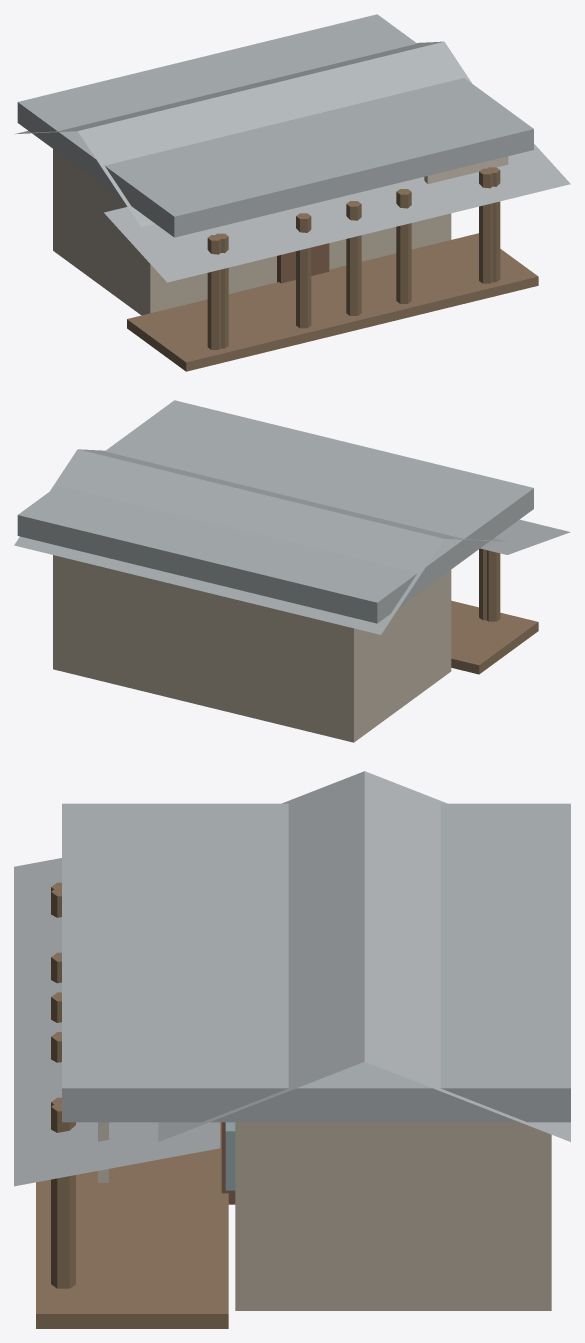
The model's file is cellardoor.glb.
3 renders of one model, top to bottom at view 1: azimuth 30°, elevation 25°; view 2: azimuth 150°, elevation 25°; view 3: azimuth 270°, elevation 25°, orthographic. The views are drawn at different scales.
Visible parts, largest first — view 1: near, far; view 2: near, far; view 3: near, far.
Boxes of the visible parts, x1,y1,x2,y2 form: near: (14,41,570,371); far: (17,14,533,348); near: (14,449,570,742); far: (17,400,533,623); near: (14,771,570,1328); far: (51,803,570,1122).
Size of the model in its own units: 2.75 by 1.11 by 2.02.
